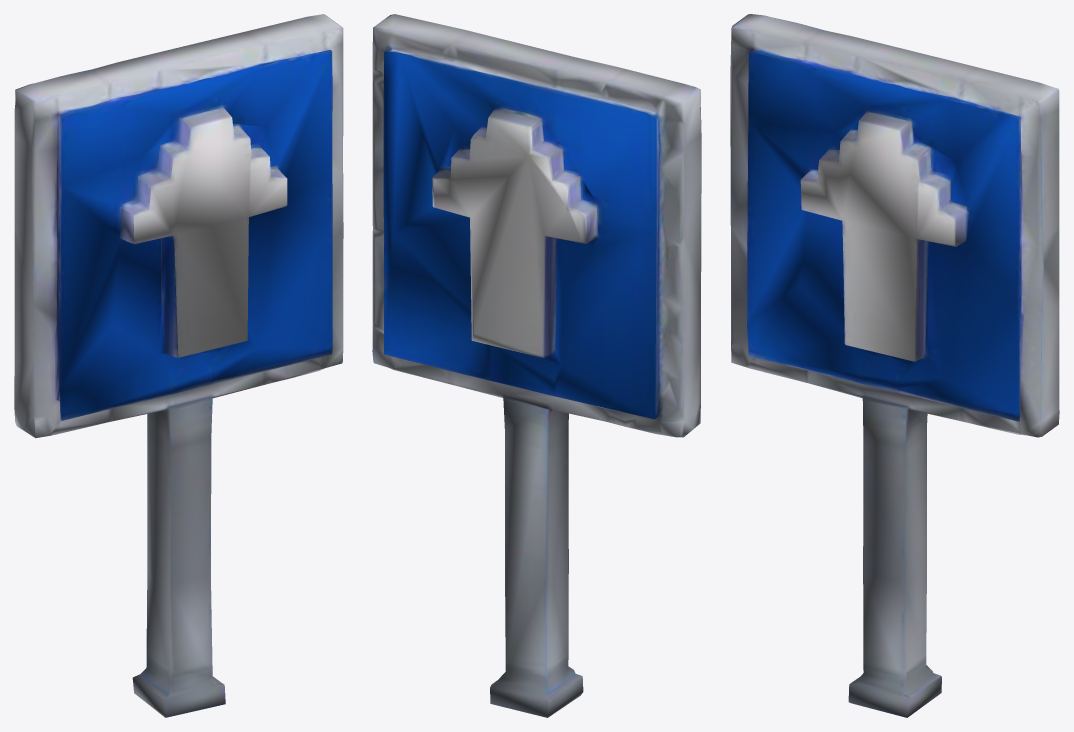
Rendered from traffic-sign-direction.glb.
The picture shows the model from 3 angles, left to right: view 1: azimuth 30°, elevation 25°; view 2: azimuth 150°, elevation 25°; view 3: azimuth 330°, elevation 25°; orthographic projection.
Parts seen in each view (by area): view 1: material; view 2: material; view 3: material.
Part boxes in pixels (x1=…): material: x1=14, y1=14, x2=343, y2=717; material: x1=372, y1=14, x2=701, y2=717; material: x1=730, y1=14, x2=1059, y2=717.
Bounding box in the file's own units: 0.5462 × 1.08 × 0.1486.
1 material, 1 textured.
